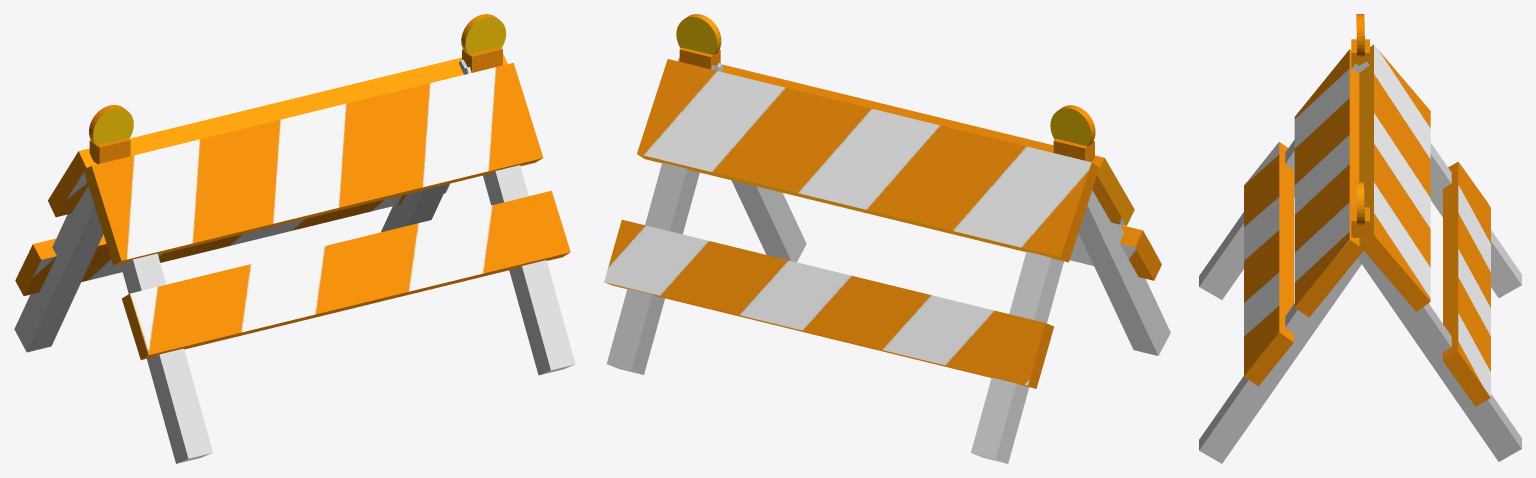
The picture shows the model from 3 angles, left to right: view 1: azimuth 30°, elevation 25°; view 2: azimuth 150°, elevation 25°; view 3: azimuth 270°, elevation 25°; orthographic projection. The views are drawn at different scales.
Parts seen in each view (by area): view 1: ที่กั้น; view 2: ที่กั้น; view 3: ที่กั้น.
Boxes of the visible parts, <box> form: ที่กั้น: <box>14,14,575,463</box>; ที่กั้น: <box>604,14,1170,463</box>; ที่กั้น: <box>1199,14,1521,463</box>.
Size of the model in its own units: 310 by 210 by 221.
